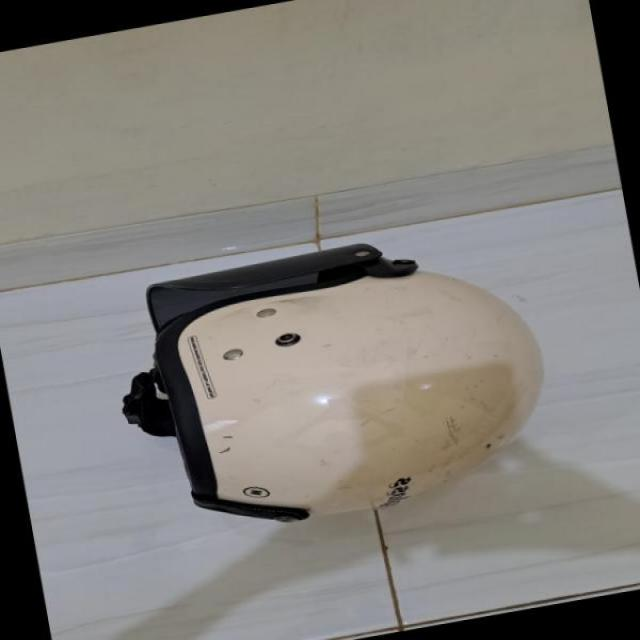Helmet: (125, 250, 540, 490)
